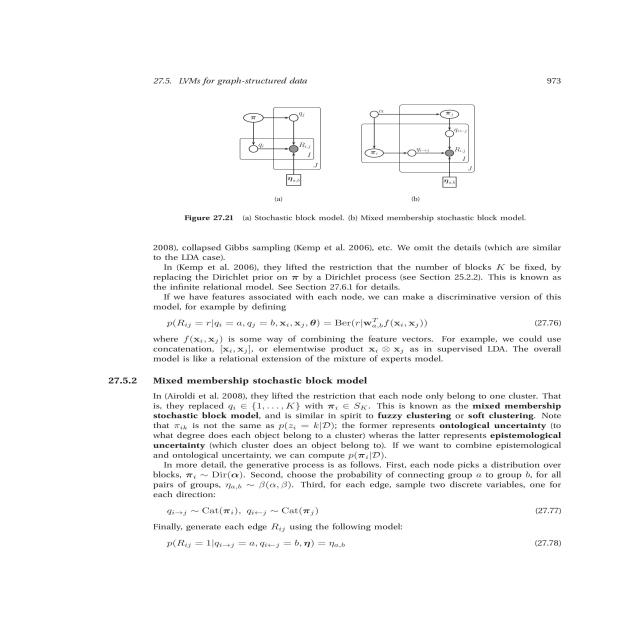diagram: (137, 70, 562, 240)
